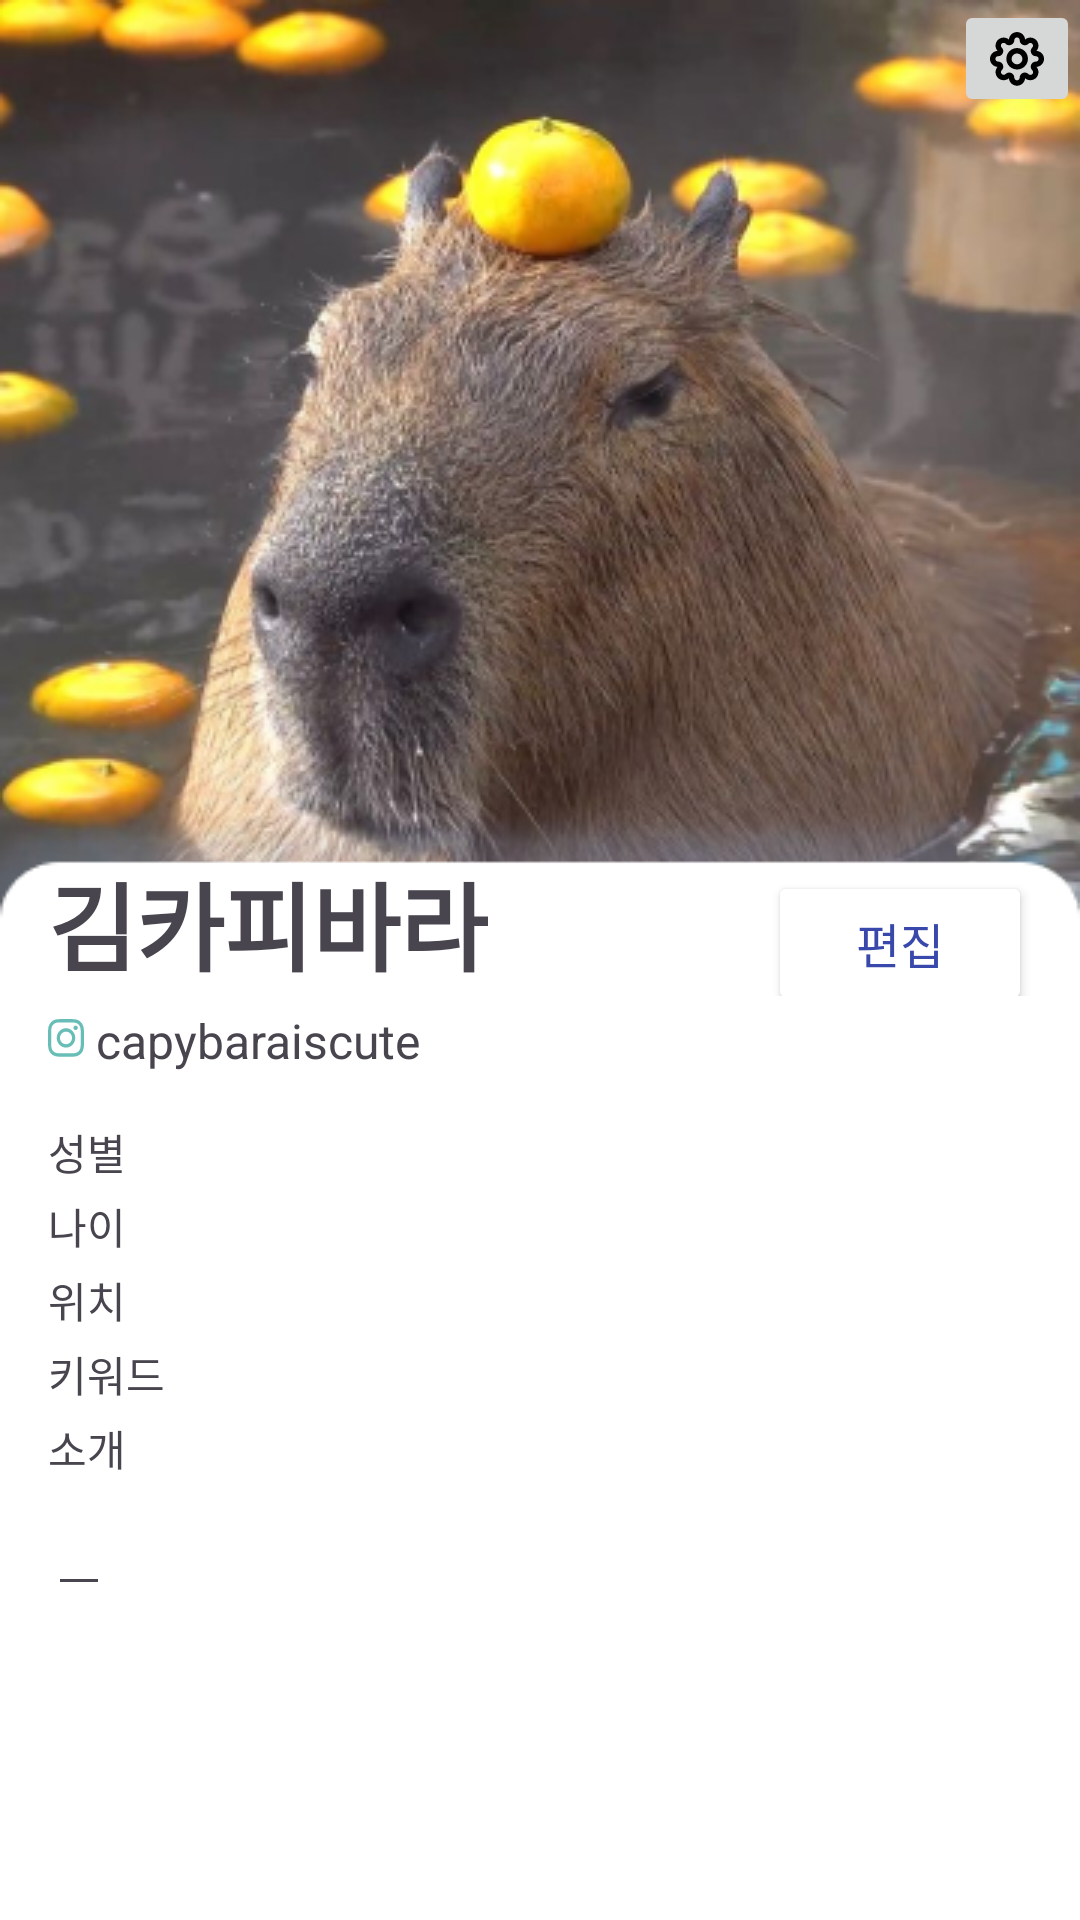

Named icons in this screenshot (1080px x 1920px) and their centers, point (x, y):
setting: point (1017, 58)
